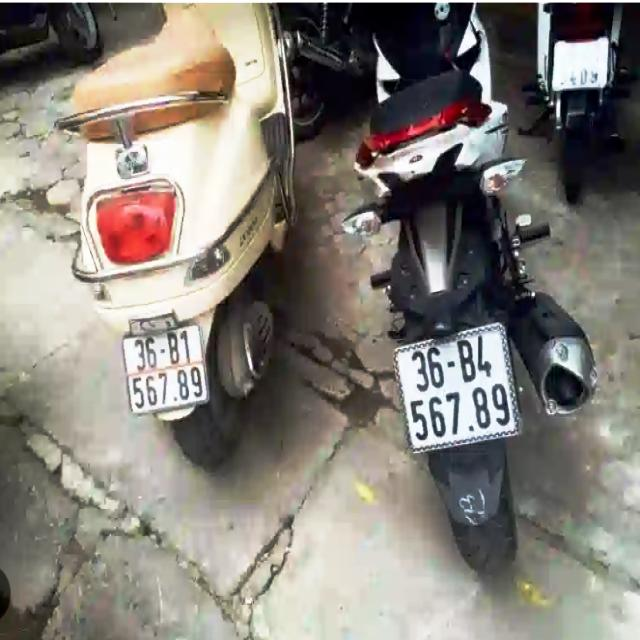license_plate: (394, 328, 518, 453), (124, 327, 209, 417)
